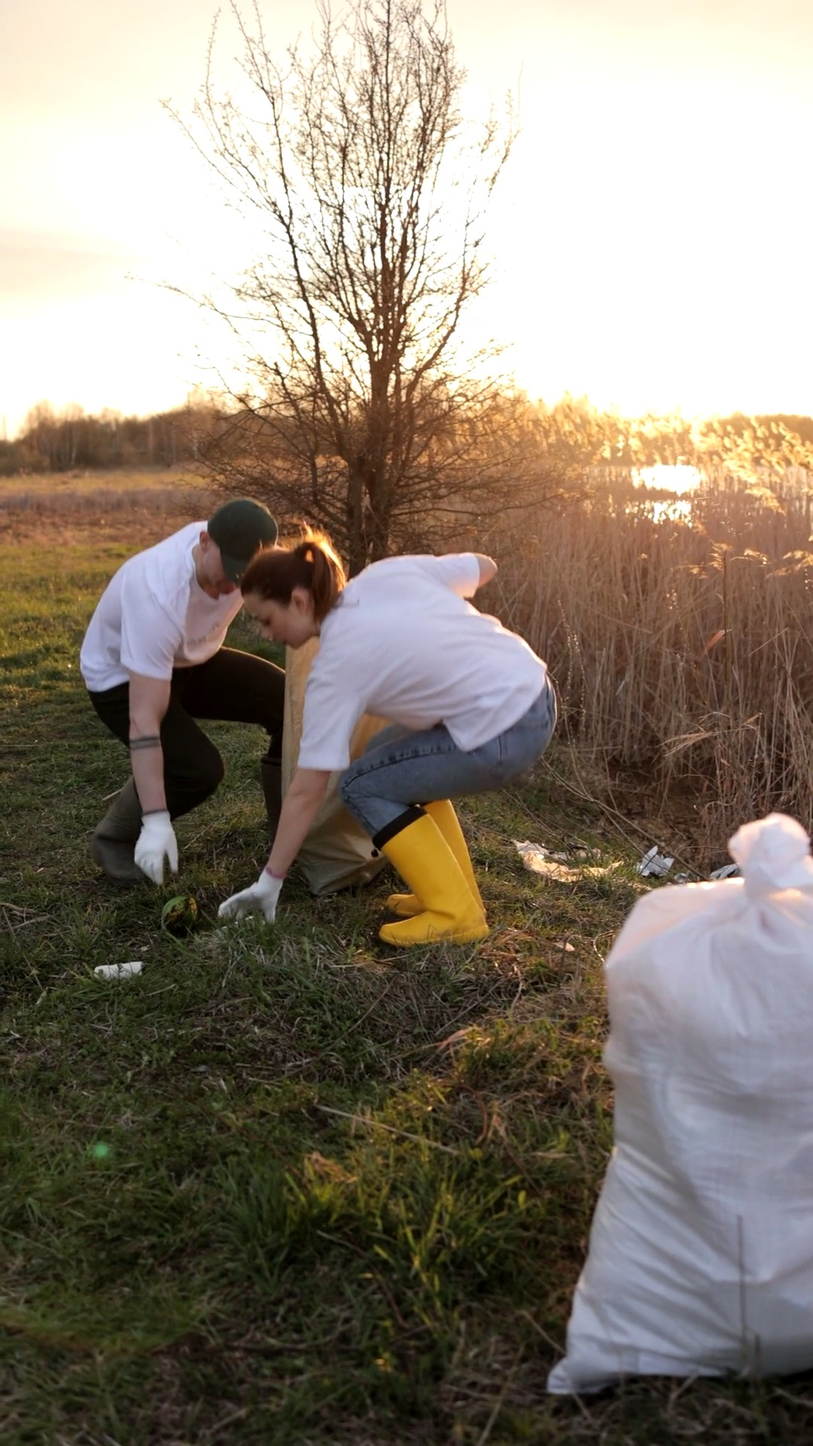gloves: (130, 806, 187, 898), (212, 866, 301, 921)
